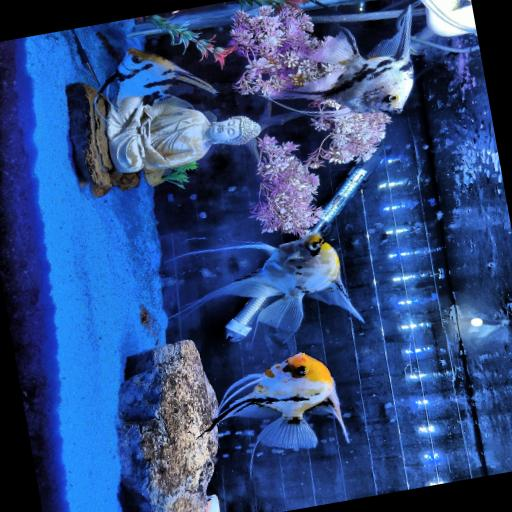Fish: (172, 233, 362, 331), (270, 7, 412, 113), (203, 352, 348, 448), (100, 47, 215, 107)
